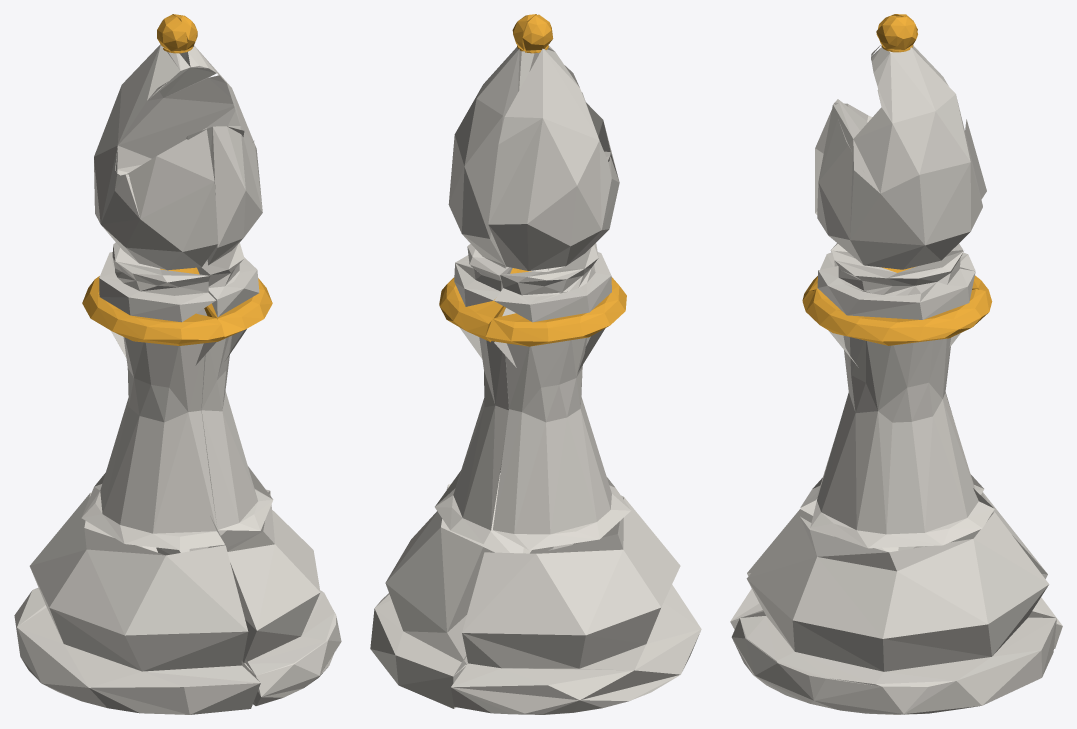
Rendered from bishop.glb.
The picture shows the model from 3 angles, left to right: view 1: azimuth 30°, elevation 25°; view 2: azimuth 150°, elevation 25°; view 3: azimuth 270°, elevation 25°; orthographic projection.
Visible parts, largest first — view 1: body, accent; view 2: body, accent; view 3: body, accent.
Part boxes in pixels (x1,y1,x2,y2): body: [14, 44, 341, 714]; accent: [82, 14, 272, 345]; body: [370, 45, 701, 714]; accent: [439, 14, 626, 346]; body: [730, 45, 1062, 714]; accent: [802, 14, 992, 345].
Bounding box in the file's own units: 0.3525 × 0.7546 × 0.3563.
